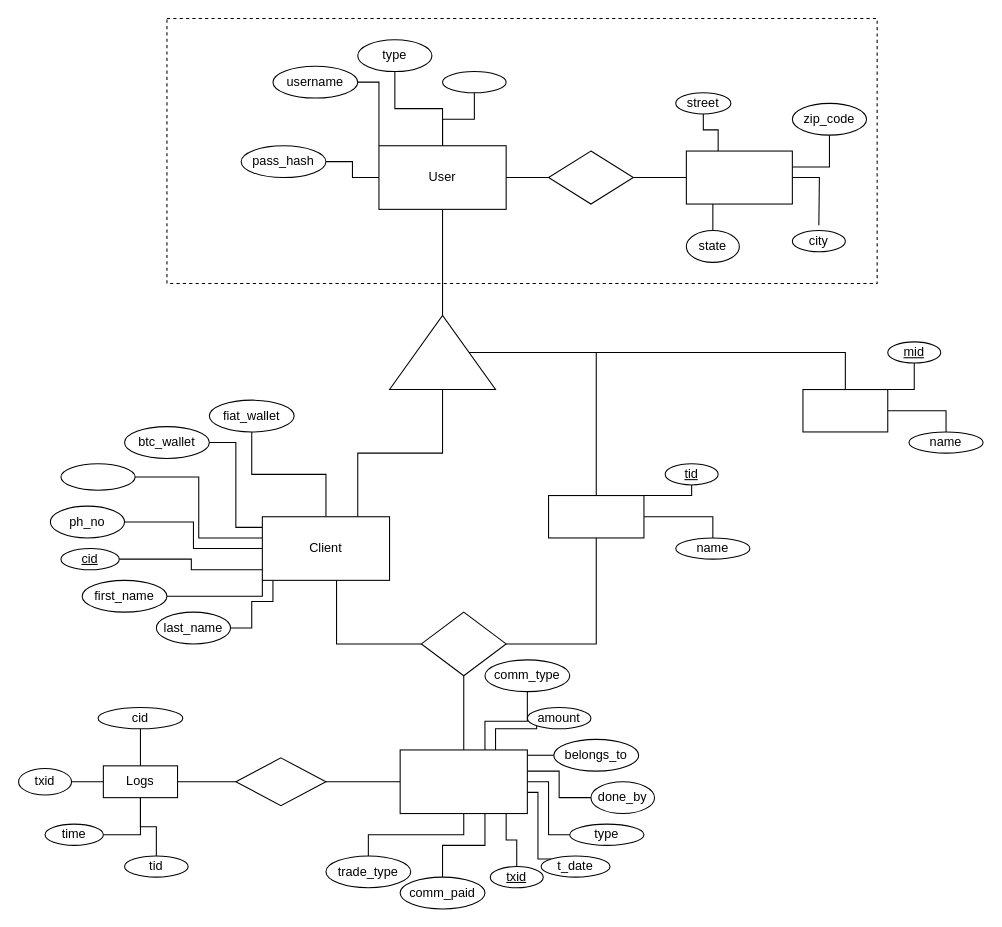
Image size: 1002x927. Some labels were removed from this diagram. The box of each missing label's shape, as (x1, y1, x2, y2) in pixels:
Address: (685, 150, 792, 204)
email: (60, 463, 135, 490)
IS A: (388, 314, 496, 390)
lives at: (547, 150, 633, 204)
Manager: (802, 388, 888, 432)
stored: (235, 757, 326, 806)
Trader: (547, 494, 644, 538)
Transaction: (399, 749, 527, 814)
transacts: (420, 611, 506, 676)
uid: (441, 70, 506, 93)
